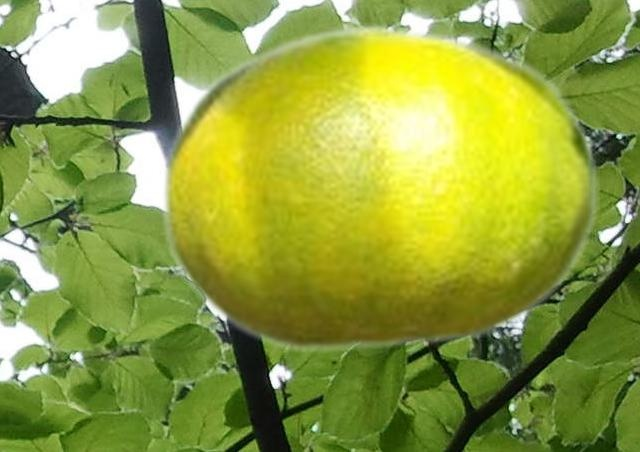dalandan: (159, 22, 598, 354)
